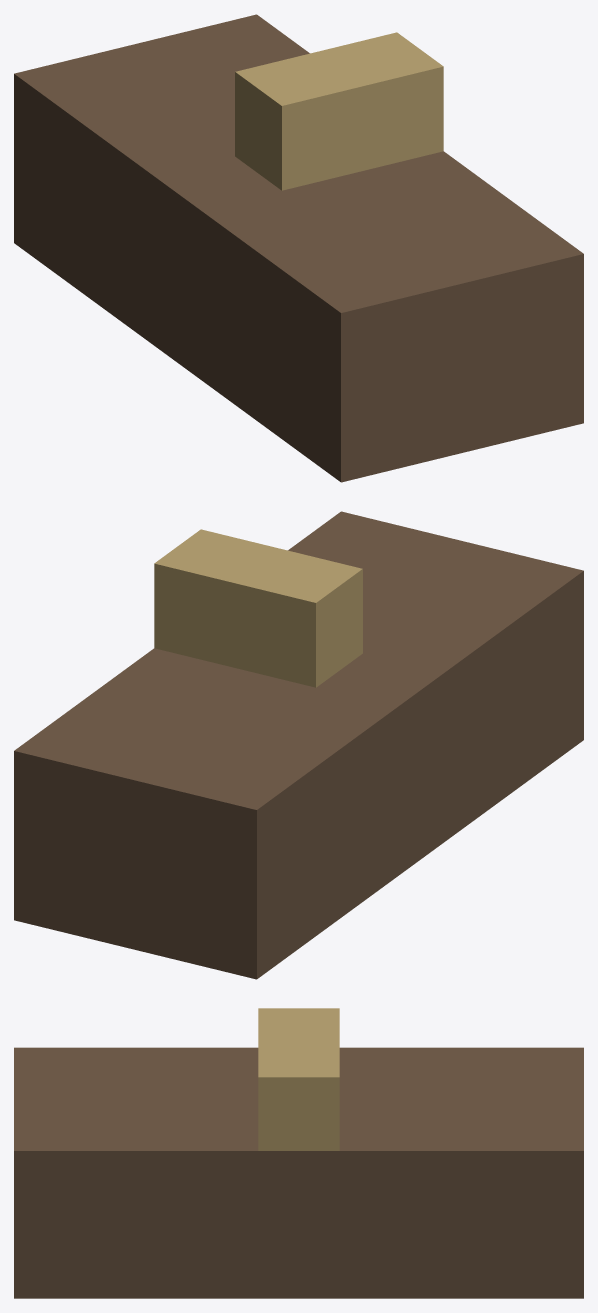
Rendered from leather_rare_boot_foot_L_lod1.glb.
3 views of the same model, one above another, from view 1: azimuth 30°, elevation 25°; view 2: azimuth 150°, elevation 25°; view 3: azimuth 270°, elevation 25° (orthographic). The views are drawn at different scales.
Visible parts, largest first — view 1: leather_rare_boot_foot_L_lod1; view 2: leather_rare_boot_foot_L_lod1; view 3: leather_rare_boot_foot_L_lod1.
Part boxes in pixels (<box>): leather_rare_boot_foot_L_lod1: <box>14,14,583,482</box>; leather_rare_boot_foot_L_lod1: <box>14,511,583,979</box>; leather_rare_boot_foot_L_lod1: <box>14,1008,583,1298</box>.
Bounding box in the file's own units: 0.144 × 0.144 × 0.336.
